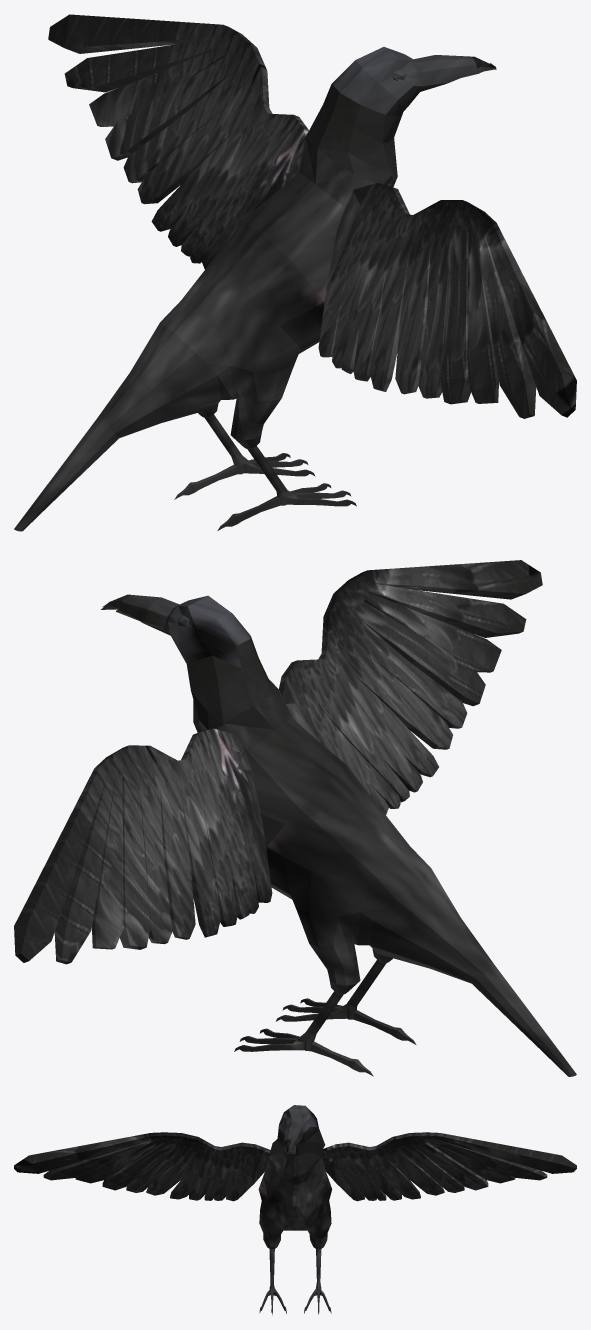
Rendered from one.obj.
3 views of the same model, one above another, from view 1: azimuth 30°, elevation 25°; view 2: azimuth 150°, elevation 25°; view 3: azimuth 270°, elevation 25° (orthographic). The views are drawn at different scales.
Parts seen in each view (by area): view 1: Cylinder; view 2: Cylinder; view 3: Cylinder.
Boxes of the visible parts, <box> form: Cylinder: <box>14,14,576,531</box>; Cylinder: <box>14,560,576,1076</box>; Cylinder: <box>14,1105,576,1315</box>.
Size of the model in its own units: 0.9941 by 0.8259 by 1.88.
